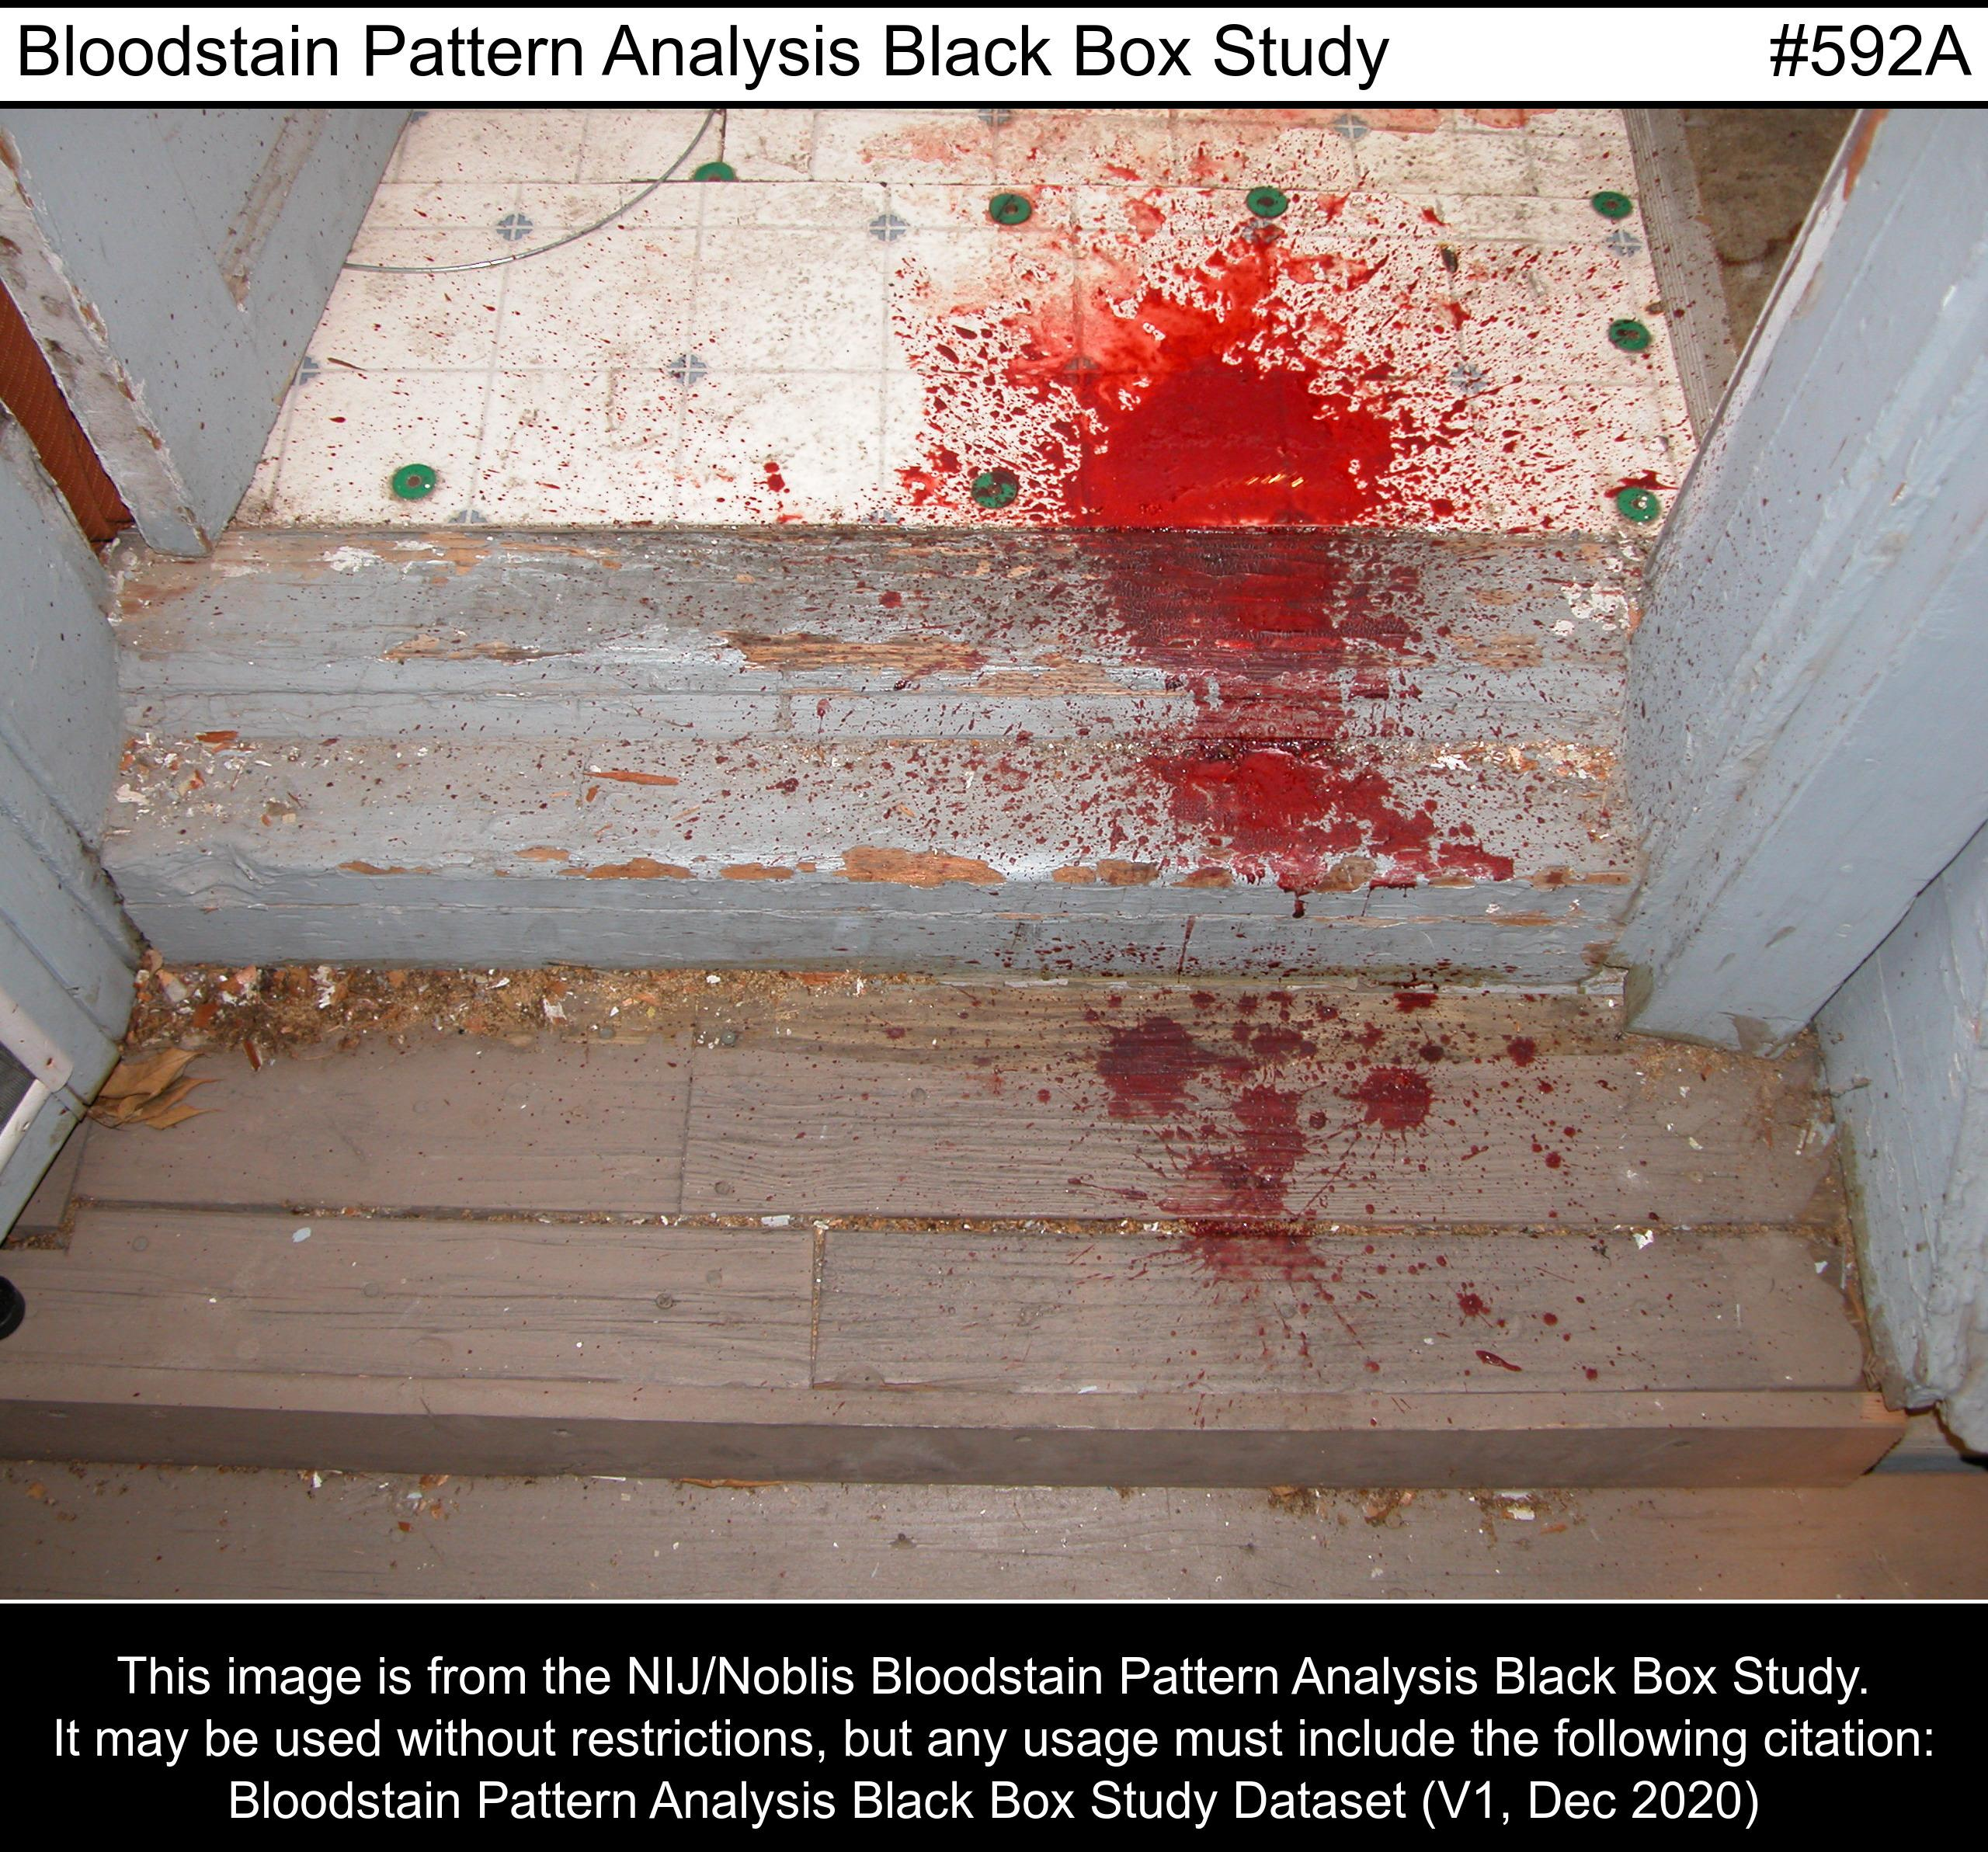Impact: (1044, 1004, 1553, 1337), (1010, 265, 1461, 519)
